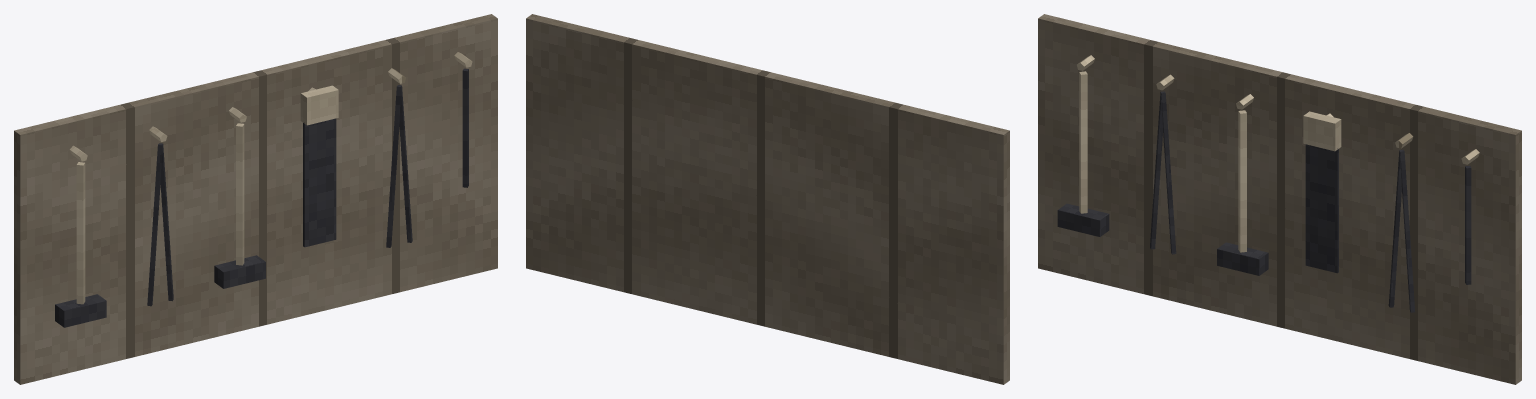
The model's file is tool_wall.glb.
3 renders of one model, left to right at view 1: azimuth 30°, elevation 25°; view 2: azimuth 150°, elevation 25°; view 3: azimuth 330°, elevation 25°, orthographic.
Parts seen in each view (by area): view 1: body; view 2: body; view 3: body.
Boxes of the visible parts, bbox=[...] form: body: bbox=[14, 14, 497, 384]; body: bbox=[526, 14, 1009, 384]; body: bbox=[1038, 14, 1521, 384].
Bounding box in the file's own units: 1.8 × 0.9 × 0.12.
3 materials, 3 textured.
